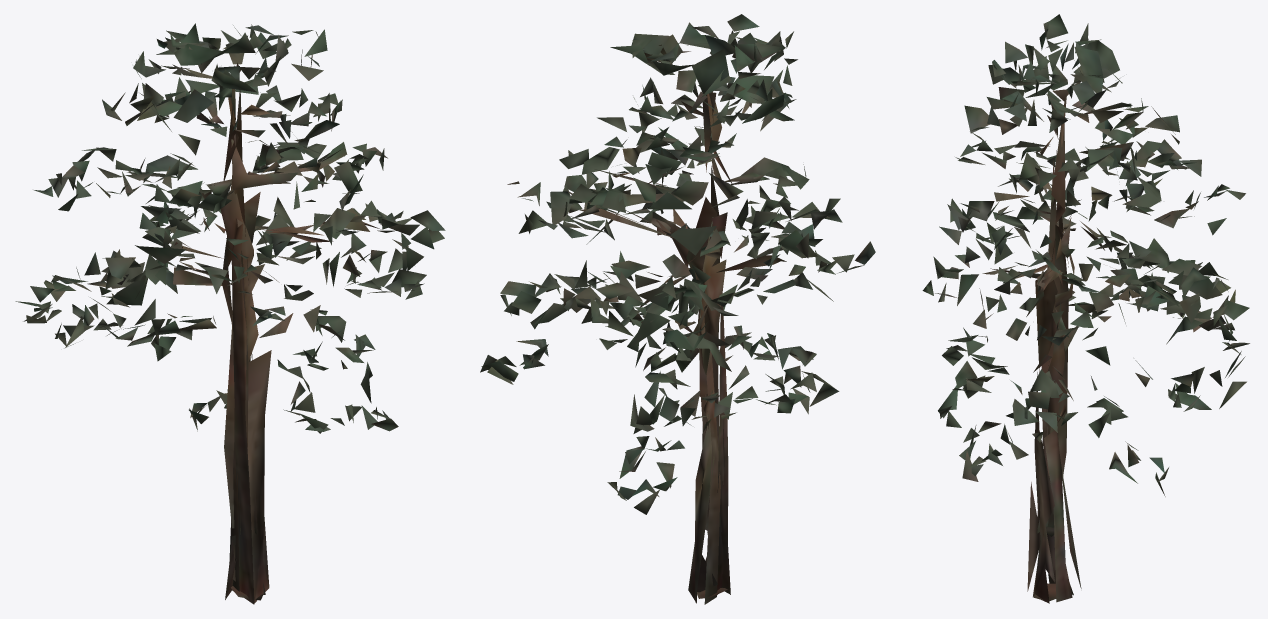
The model's file is wald_kiefer_lo.glb.
3 views of the same model, side by side, from view 1: azimuth 30°, elevation 25°; view 2: azimuth 150°, elevation 25°; view 3: azimuth 270°, elevation 25° (orthographic). The views are drawn at different scales.
Visible parts, largest first — view 1: Prop; view 2: Prop; view 3: Prop.
Boxes of the visible parts, x1,y1,x2,y2 form: Prop: (15, 23, 445, 604); Prop: (480, 14, 875, 604); Prop: (922, 14, 1249, 603).
Bounding box in the file's own units: 0.6569 × 1 × 0.5793.
Materials: 1 (1 with a texture image).
